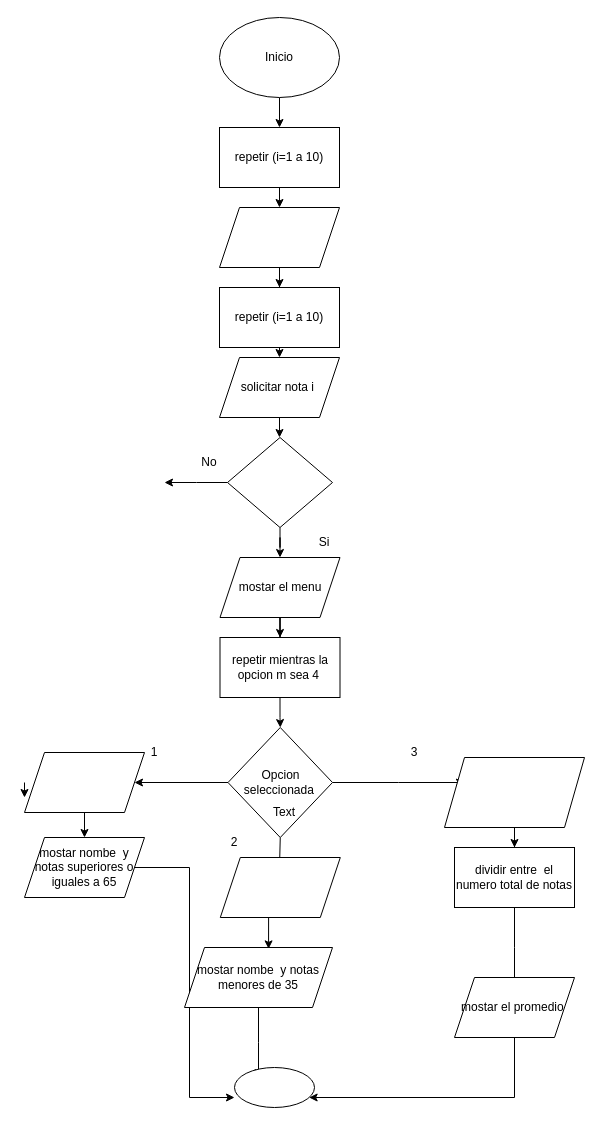
Image size: 602x1125. Some labels were removed from this diagram. The shapes that lost their labels are listed below. From the top down, each one's box as (x1, y1, x2, y2) in pixels, then its label:
(218, 206, 340, 268): solicitar nombre de alumno
(226, 436, 332, 528): es un numero entre 0 y 100
(24, 752, 144, 812): aprobadas
(444, 756, 584, 828): Promedio de grupo
(219, 856, 340, 918): no aprobadas
